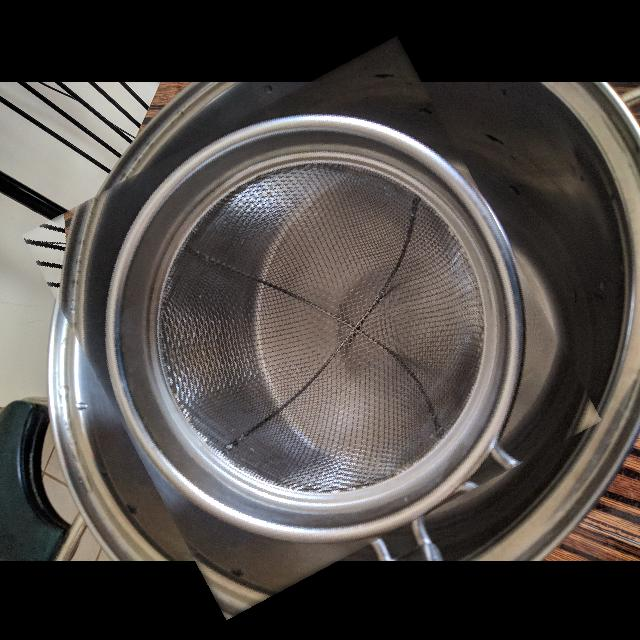Strainer: (102, 109, 528, 550)
